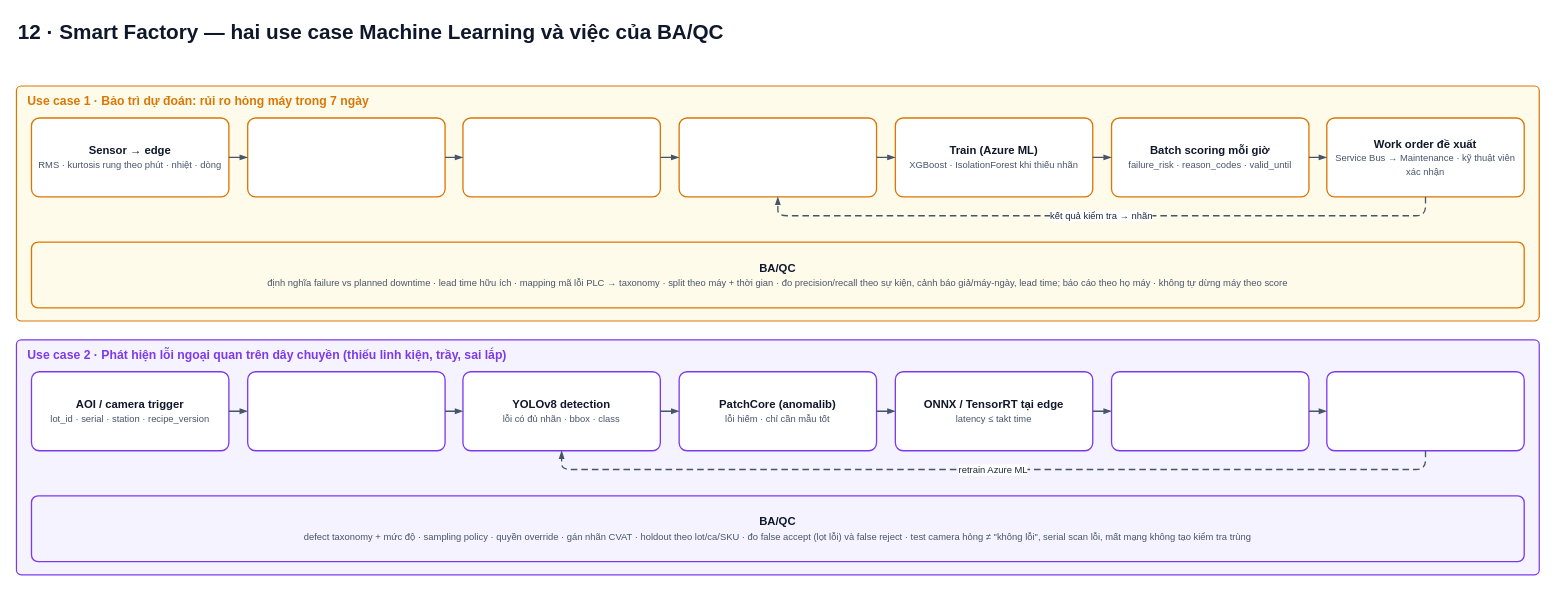
Some shapes in this 1557 by 591 pixel diagram are drawn without their labels. The box of each missing label's shape, as (x1, y1, x2, y2) in pixels:
ADX / ADLS telemetry + alarm + runtime: (247, 117, 445, 197)
Edge preprocess crop ROI · chuẩn hóa sáng: (247, 371, 445, 451)
Feature windows 24h / 7 ngày · số alarm · giờ chạy · tải: (462, 117, 661, 197)
Nhãn failure event từ work order + mã lỗi PLC: (678, 117, 877, 197)
QC xác nhận rework · scrap · release → nhãn về ADLS: (1326, 371, 1524, 451)
QMS OK/NG · ảnh bằng chứng · Quality Hold lot: (1110, 371, 1309, 451)
